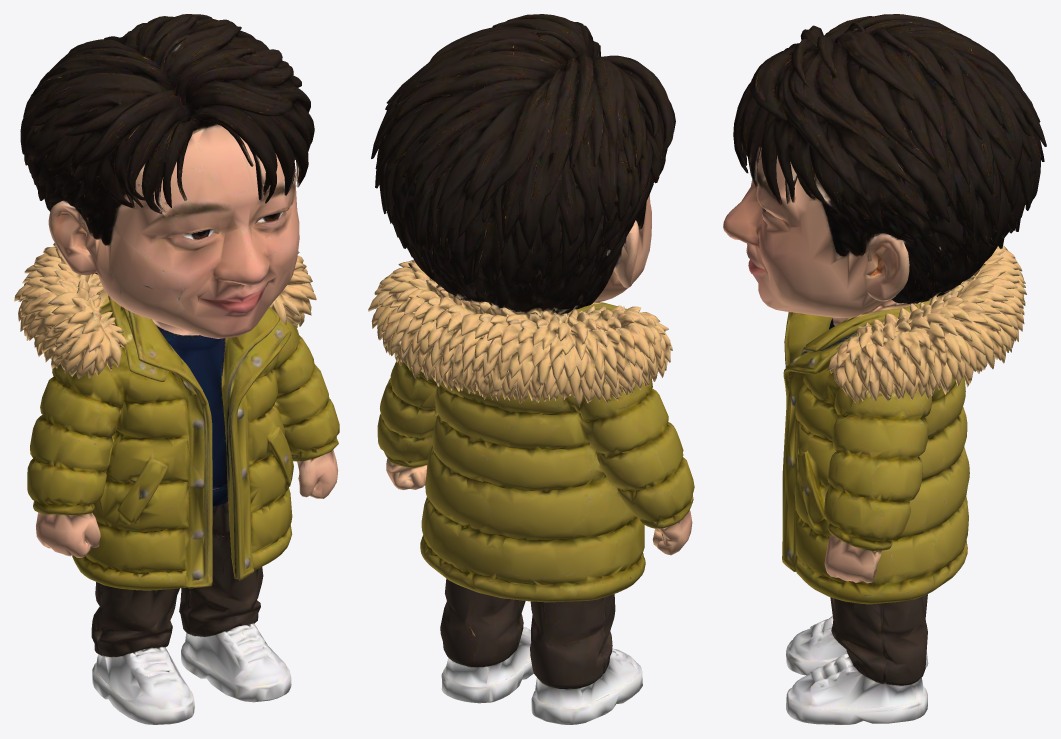
The model's file is family_me.glb.
3 renders of one model, left to right at view 1: azimuth 30°, elevation 25°; view 2: azimuth 150°, elevation 25°; view 3: azimuth 270°, elevation 25°, orthographic.
Bounding box in the file's own units: 0.9187 × 1.9 × 0.8472.
1 material, 1 textured.
